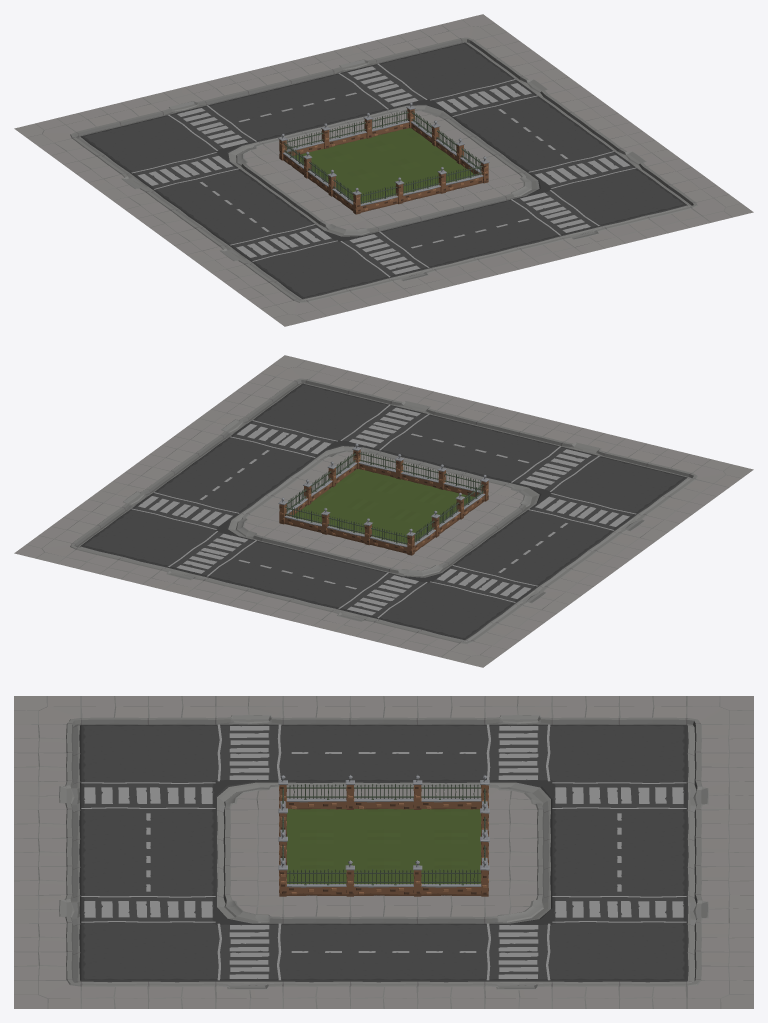
File: level.glb
3 renders of one model, top to bottom at view 1: azimuth 30°, elevation 25°; view 2: azimuth 150°, elevation 25°; view 3: azimuth 270°, elevation 25°, orthographic. The views are drawn at different scales.
Parts seen in each view (by area): view 1: SM_Env_Sidewalk_Corner_02.001, SM_Env_Sidewalk_Straight_01.023, SM_Env_Sidewalk_Straight_01.029, SM_Env_Sidewalk_Dip_01.001, SM_Env_Sidewalk_Straight_01.003, SM_Env_Sidewalk_Straight_01.039, SM_Env_Sidewalk_Straight_01.043, SM_Env_Sidewalk_Dip_01.007, SM_Env_Sidewalk_Straight_01.004, SM_Env_Road_Bare_01.007, SM_Env_Road_Bare_01.008, SM_Env_Sidewalk_Straight_01.034 (+113 smaller); view 2: SM_Env_Sidewalk_Corner_02.002, SM_Env_Sidewalk_Straight_01.023, SM_Env_Sidewalk_Straight_01.029, SM_Env_Sidewalk_Dip_01.006, SM_Env_Sidewalk_Straight_01.003, SM_Env_Sidewalk_Straight_01.034, SM_Env_Sidewalk_Straight_01.049, SM_Env_Sidewalk_Dip_01.008, SM_Env_Sidewalk_Straight_01.002, SM_Env_Road_Bare_01.003, SM_Env_Road_Bare_01.009, SM_Env_Sidewalk_Straight_01.038 (+113 smaller); view 3: SM_Env_Sidewalk_Corner_02.003, SM_Env_Sidewalk_Corner_02.004, SM_Env_Sidewalk_Straight_01.023, SM_Env_Sidewalk_Straight_01.029, SM_Env_Sidewalk_Dip_01.002, SM_Env_Sidewalk_Dip_01.005, SM_Env_Sidewalk_Dip_01.006, SM_Env_Sidewalk_Straight_01.022, SM_Env_Sidewalk_Straight_01.030, SM_Env_Sidewalk_Dip_01.001, SM_Env_Sidewalk_Straight_01.024, SM_Env_Sidewalk_Straight_01.028 (+115 smaller).
Boxes of the visible parts, x1=… form: SM_Env_Sidewalk_Corner_02.001: x1=441, y1=14, x2=507, y2=43; SM_Env_Sidewalk_Straight_01.023: x1=227, y1=66, x2=293, y2=94; SM_Env_Sidewalk_Straight_01.029: x1=473, y1=246, x2=540, y2=274; SM_Env_Sidewalk_Dip_01.001: x1=142, y1=87, x2=208, y2=115; SM_Env_Sidewalk_Straight_01.003: x1=137, y1=208, x2=203, y2=236; SM_Env_Sidewalk_Straight_01.039: x1=39, y1=136, x2=105, y2=164; SM_Env_Sidewalk_Straight_01.043: x1=355, y1=35, x2=421, y2=63; SM_Env_Sidewalk_Dip_01.007: x1=186, y1=244, x2=253, y2=272; SM_Env_Sidewalk_Straight_01.004: x1=113, y1=190, x2=179, y2=218; SM_Env_Road_Bare_01.007: x1=552, y1=179, x2=618, y2=207; SM_Env_Road_Bare_01.008: x1=149, y1=133, x2=215, y2=161; SM_Env_Sidewalk_Straight_01.034: x1=601, y1=215, x2=668, y2=243; SM_Env_Sidewalk_Corner_02.002: x1=260, y1=355, x2=326, y2=384; SM_Env_Sidewalk_Straight_01.023: x1=227, y1=587, x2=294, y2=615; SM_Env_Sidewalk_Straight_01.029: x1=474, y1=407, x2=540, y2=435; SM_Env_Sidewalk_Dip_01.006: x1=559, y1=428, x2=625, y2=456; SM_Env_Sidewalk_Straight_01.003: x1=564, y1=549, x2=630, y2=577; SM_Env_Sidewalk_Straight_01.034: x1=346, y1=376, x2=412, y2=404; SM_Env_Sidewalk_Straight_01.049: x1=662, y1=477, x2=728, y2=505; SM_Env_Sidewalk_Dip_01.008: x1=514, y1=585, x2=581, y2=613; SM_Env_Sidewalk_Straight_01.002: x1=588, y1=531, x2=654, y2=559; SM_Env_Road_Bare_01.003: x1=552, y1=474, x2=618, y2=502; SM_Env_Road_Bare_01.009: x1=149, y1=520, x2=215, y2=548; SM_Env_Sidewalk_Straight_01.038: x1=490, y1=603, x2=556, y2=631; SM_Env_Sidewalk_Corner_02.003: x1=14, y1=696, x2=81, y2=727; SM_Env_Sidewalk_Corner_02.004: x1=686, y1=696, x2=753, y2=727; SM_Env_Sidewalk_Straight_01.023: x1=686, y1=837, x2=753, y2=869; SM_Env_Sidewalk_Straight_01.029: x1=14, y1=837, x2=81, y2=869; SM_Env_Sidewalk_Dip_01.002: x1=686, y1=894, x2=753, y2=926; SM_Env_Sidewalk_Dip_01.005: x1=14, y1=894, x2=81, y2=926; SM_Env_Sidewalk_Dip_01.006: x1=14, y1=780, x2=81, y2=812; SM_Env_Sidewalk_Straight_01.022: x1=686, y1=809, x2=753, y2=840; SM_Env_Sidewalk_Straight_01.030: x1=14, y1=809, x2=81, y2=840; SM_Env_Sidewalk_Dip_01.001: x1=686, y1=780, x2=753, y2=812; SM_Env_Sidewalk_Straight_01.024: x1=686, y1=866, x2=753, y2=897; SM_Env_Sidewalk_Straight_01.028: x1=14, y1=866, x2=81, y2=897.
Size of the model in its own units: 55 by 3.12 by 55.
3 materials, 3 textured.
